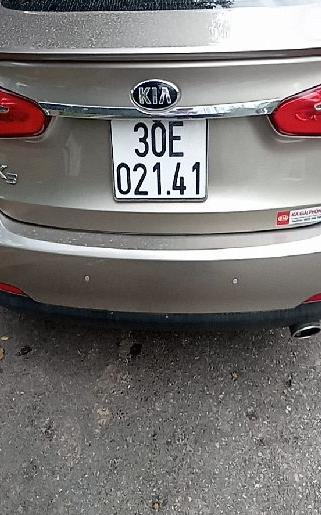Plate-iWeP: (113, 117, 208, 199)
